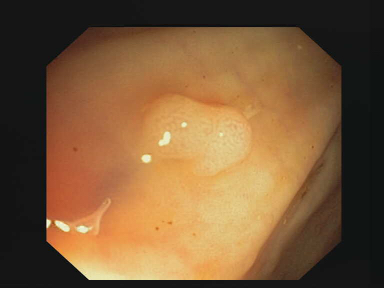polyp: (136, 94, 257, 176)
